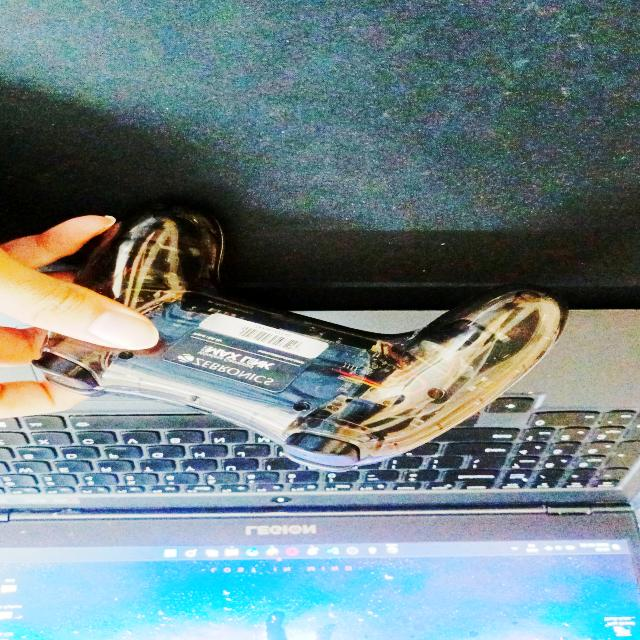gamepad: (28, 204, 568, 471)
